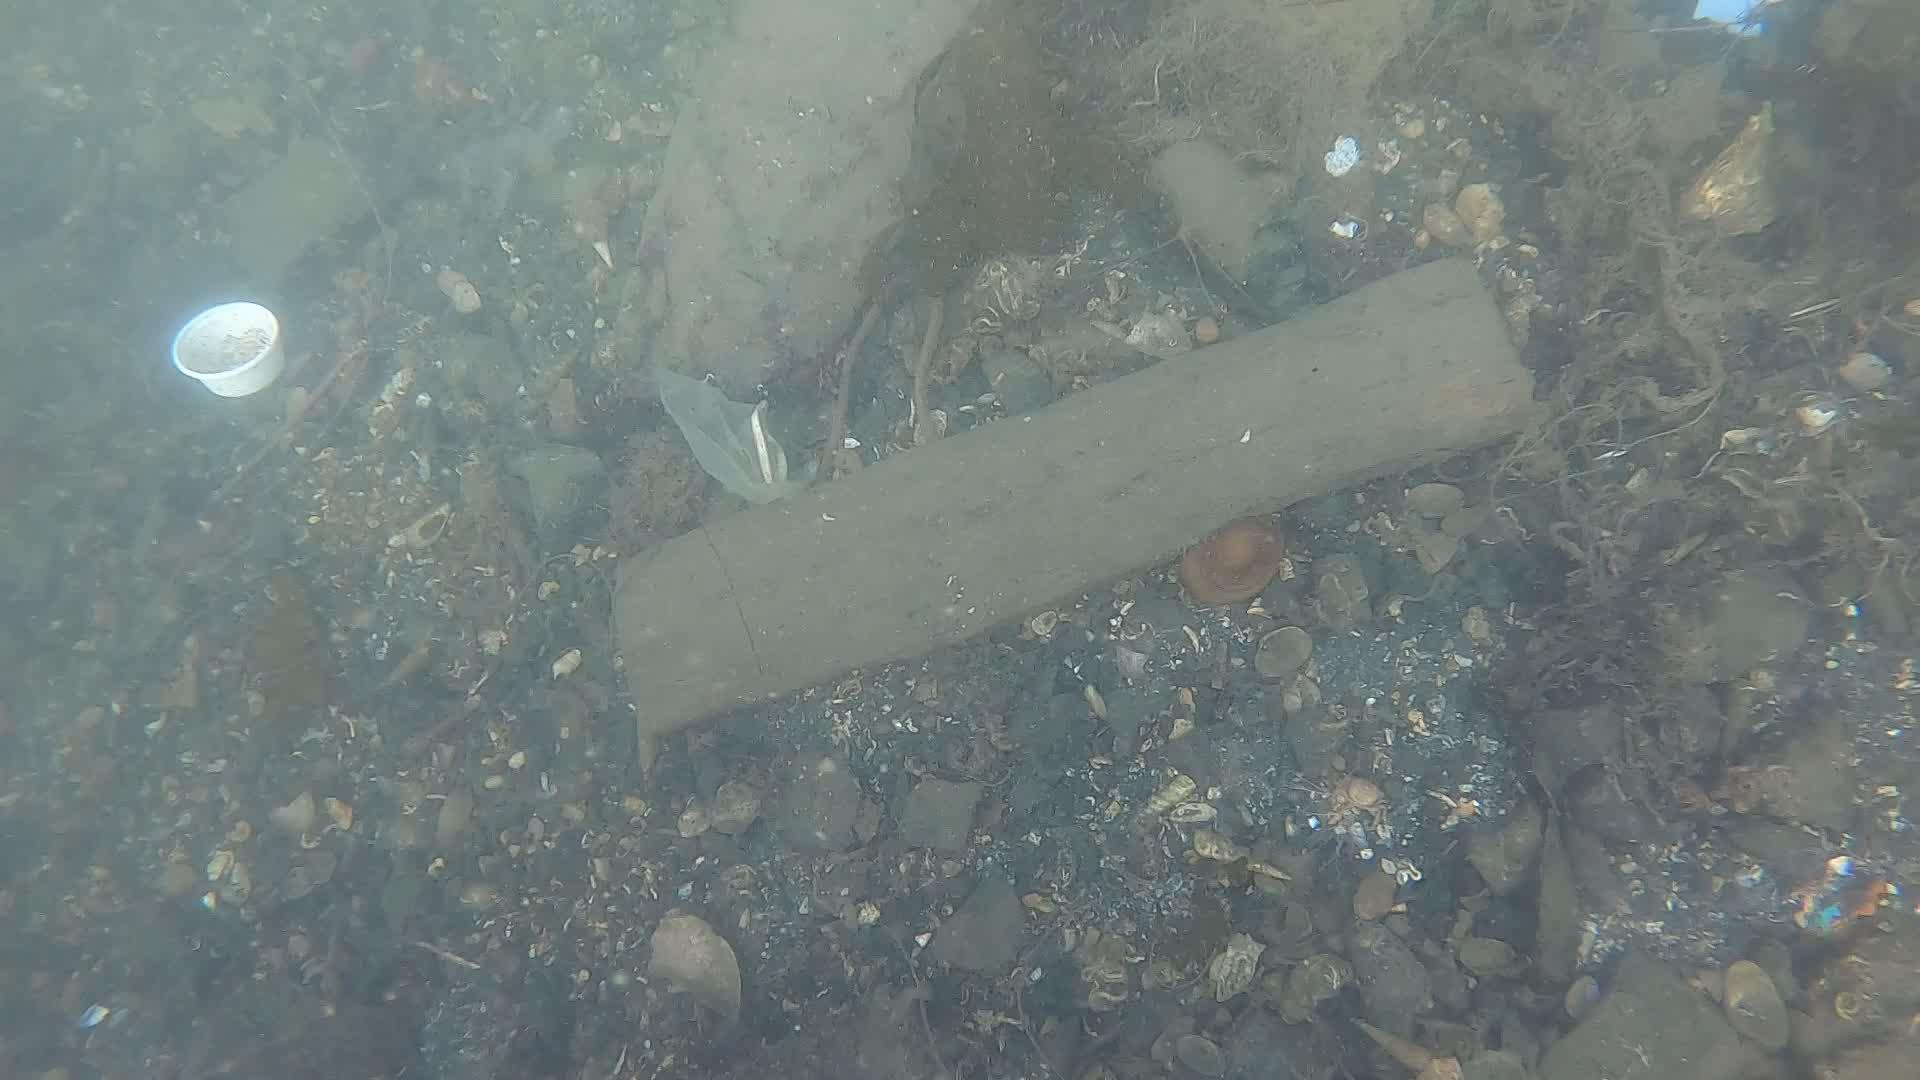wood: (604, 252, 1532, 741)
